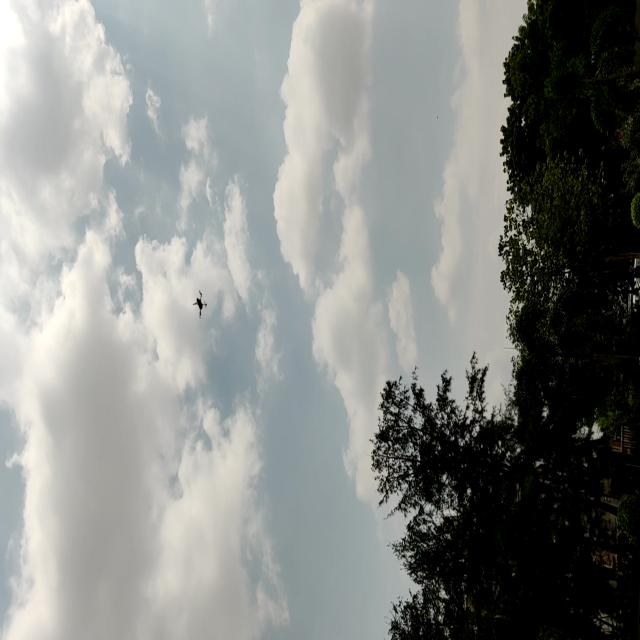drone: (193, 288, 207, 321)
